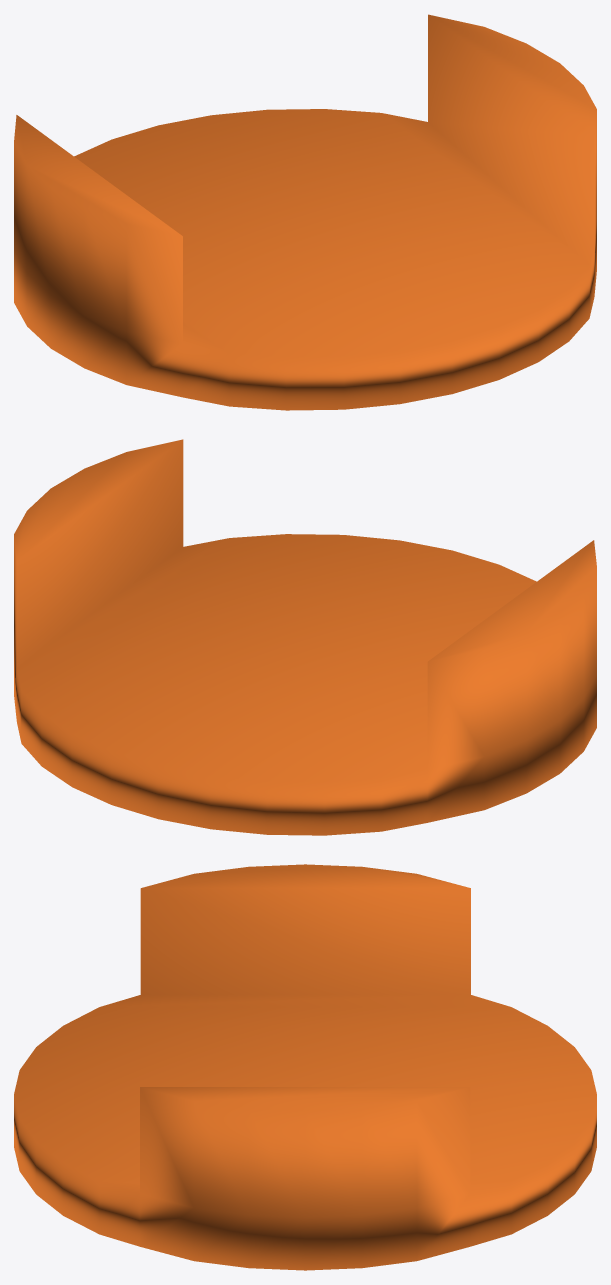
The model's file is TurnTable.fbx.
3 views of the same model, one above another, from view 1: azimuth 30°, elevation 25°; view 2: azimuth 150°, elevation 25°; view 3: azimuth 270°, elevation 25° (orthographic).
Visible parts, largest first — view 1: TurnTable; view 2: TurnTable; view 3: TurnTable.
Part boxes in pixels (x1=…): TurnTable: x1=14, y1=14, x2=596, y2=410; TurnTable: x1=14, y1=439, x2=596, y2=835; TurnTable: x1=14, y1=864, x2=596, y2=1270.
Bounding box in the file's own units: 99.13 × 29.97 × 99.13.
